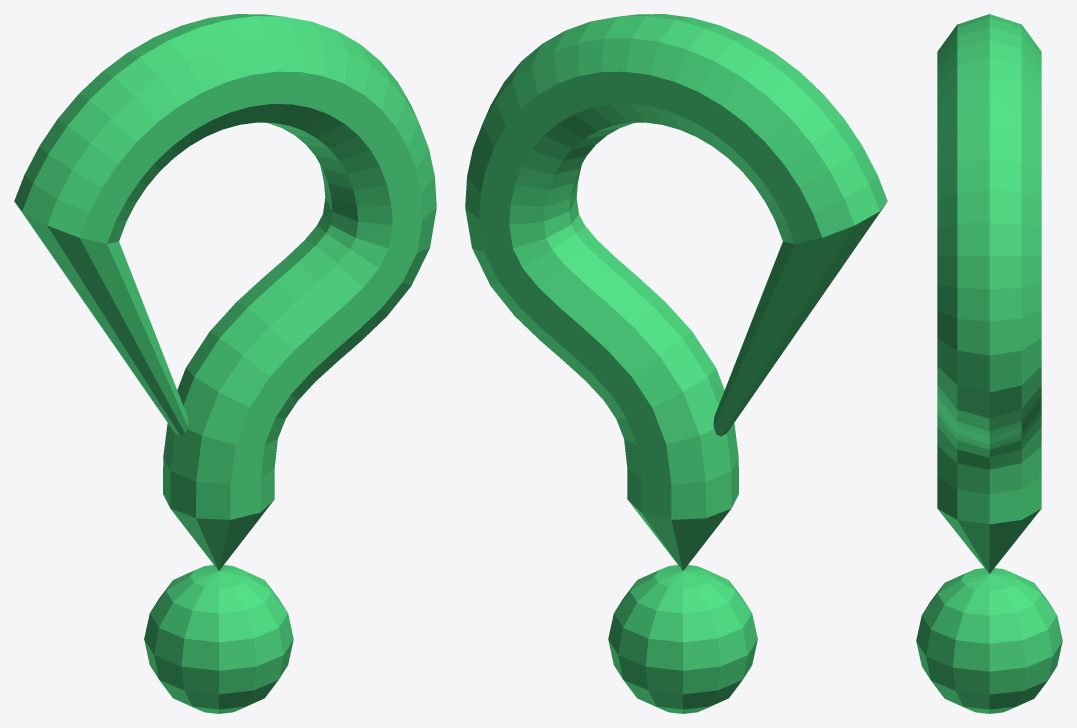
File: question.obj
The picture shows the model from 3 angles, left to right: view 1: azimuth 30°, elevation 25°; view 2: azimuth 150°, elevation 25°; view 3: azimuth 270°, elevation 25°; orthographic projection. The views are drawn at different scales.
Parts seen in each view (by area): view 1: question; view 2: question; view 3: question.
Part boxes in pixels (x1,y1,x2,y2): question: (14, 14, 436, 713); question: (465, 14, 887, 713); question: (916, 14, 1062, 713).
Size of the model in its own units: 1.26 by 2.02 by 0.4.
